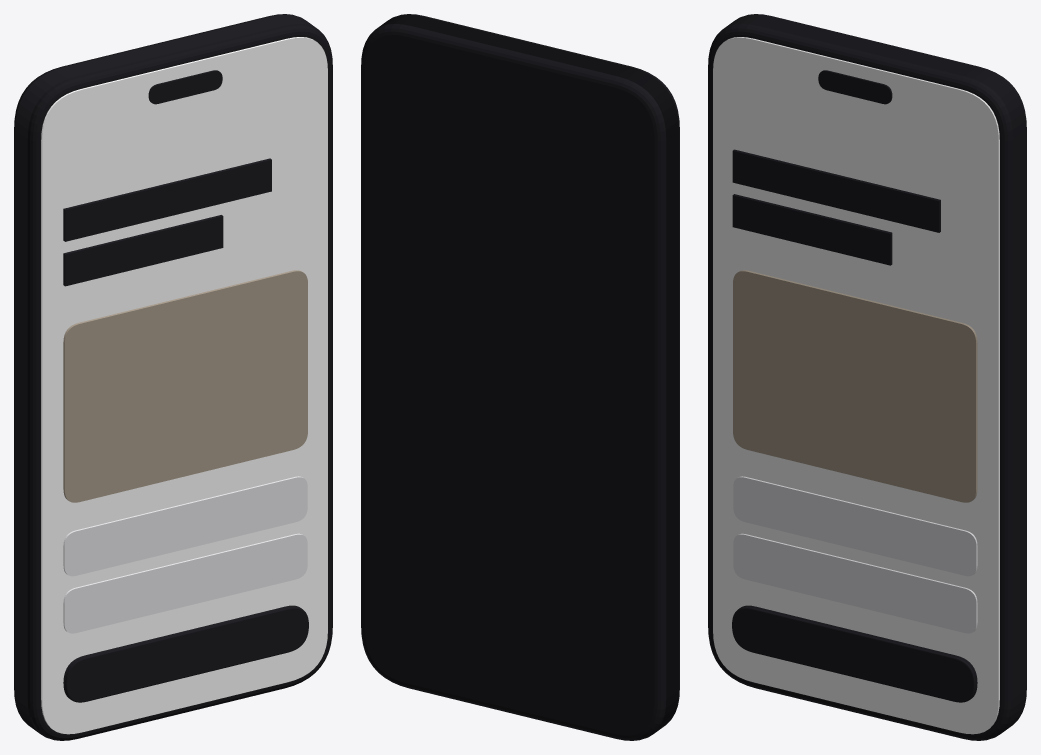
The model's file is phone.glb.
3 views of the same model, side by side, from view 1: azimuth 30°, elevation 25°; view 2: azimuth 150°, elevation 25°; view 3: azimuth 330°, elevation 25° (orthographic).
Parts seen in each view (by area): view 1: screen, image, body, button, row-2, row-1, headline, headline-2, island; view 2: body; view 3: screen, image, body, button, row-2, row-1, headline, headline-2, island.
Boxes of the visible parts, x1,y1,x2,y2 form: screen: (41,37,327,734); image: (63,270,307,502); body: (14,14,332,740); button: (63,605,308,702); row-2: (63,533,307,633); row-1: (63,476,307,576); headline: (63,158,271,241); headline-2: (63,215,223,286); island: (148,70,222,104); body: (361,14,679,740); screen: (713,37,999,734); image: (733,270,977,502); body: (708,14,1026,740); button: (732,605,977,702); row-2: (733,533,977,633); row-1: (733,476,977,576); headline: (732,149,940,232); headline-2: (732,194,892,265); island: (818,70,892,104).
Size of the model in its own units: 0.5 by 1.04 by 0.071.
